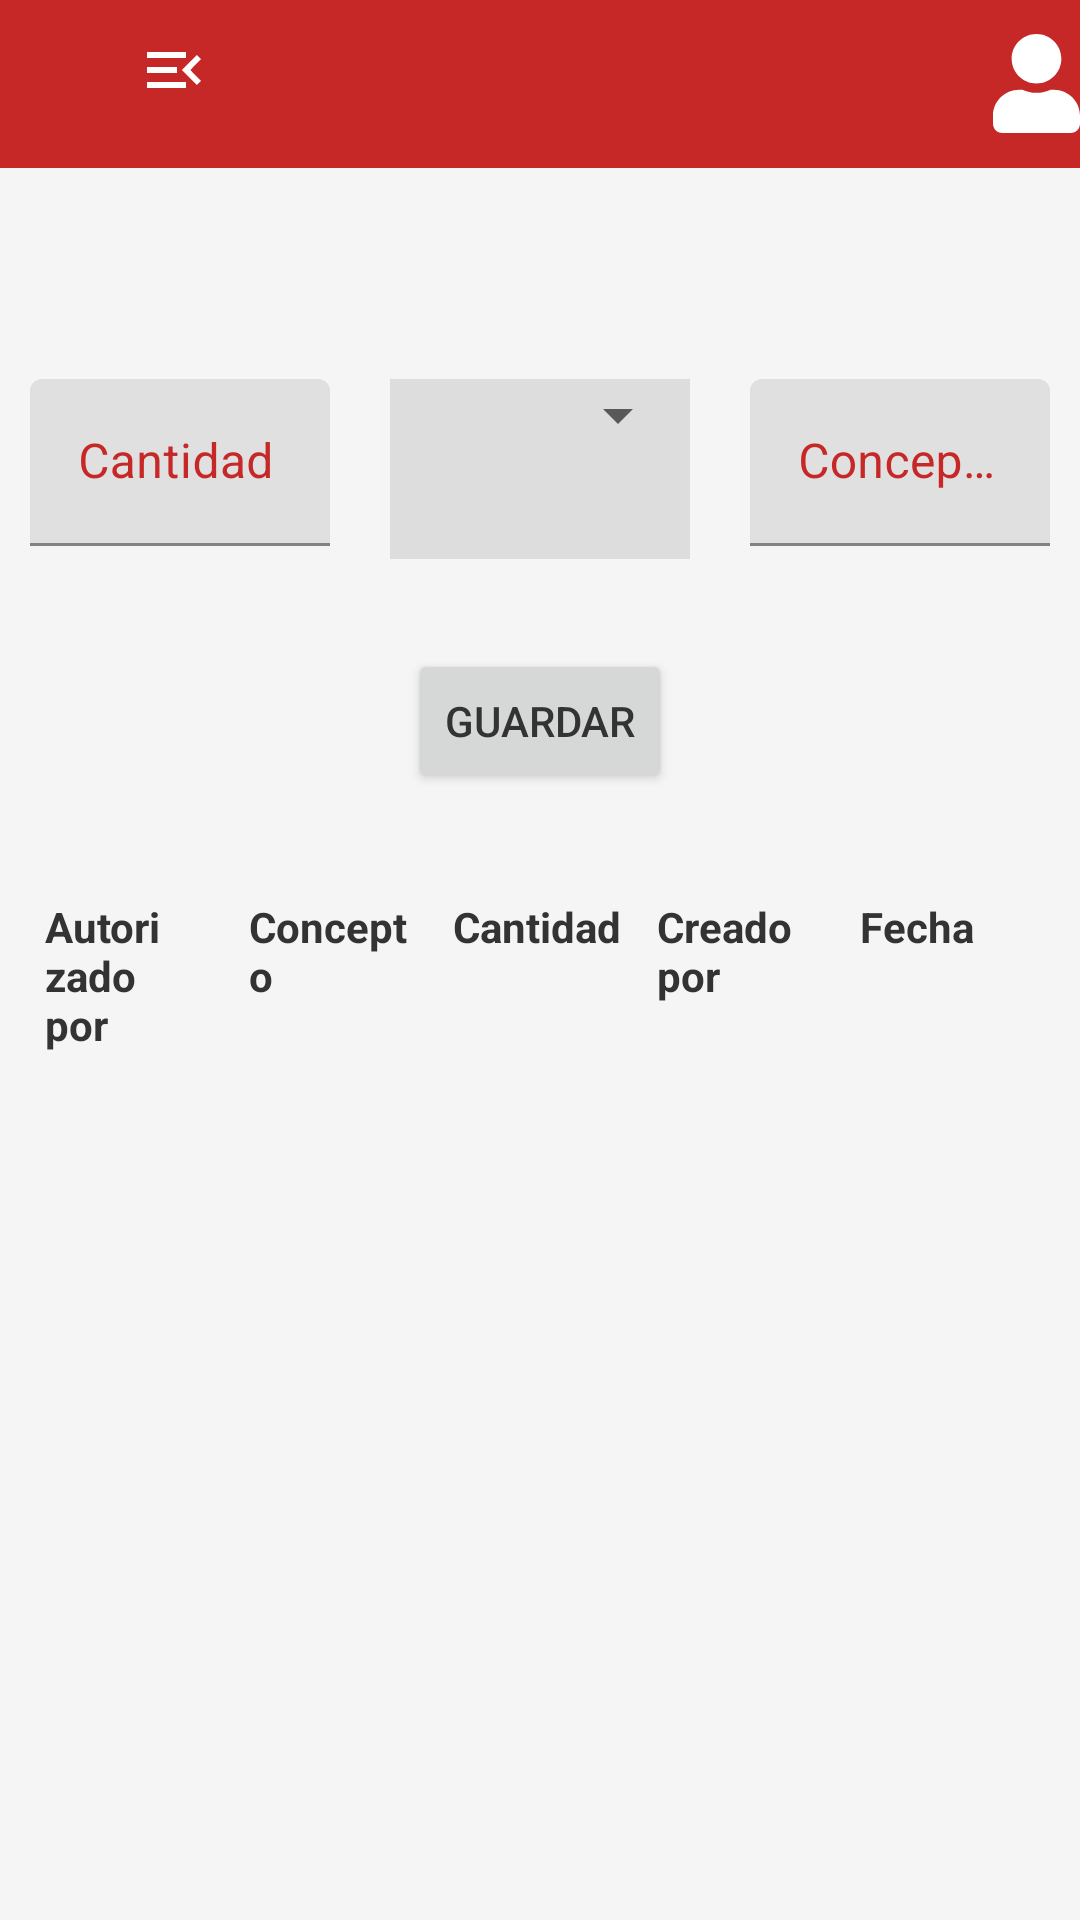

Locate icon controls on the screen. Image size 1080 x 1920, boxes as (x1, y1, x2, y2).
open: (147, 52, 201, 88)
user: (993, 34, 1080, 133)
